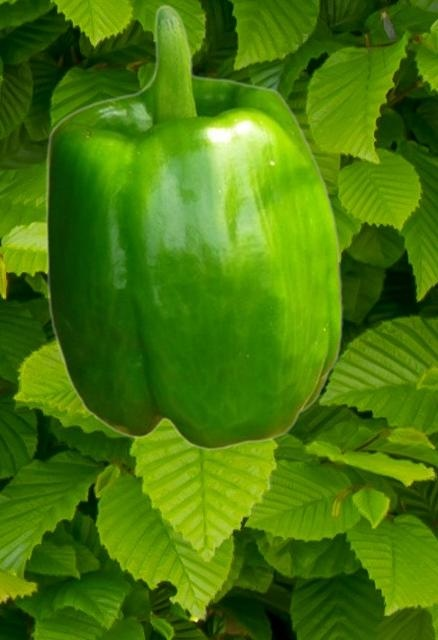bell_pepper: (44, 4, 342, 450)
